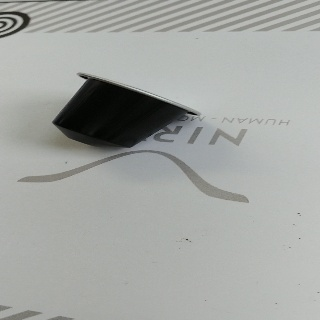capsule_10: (50, 71, 202, 152)
